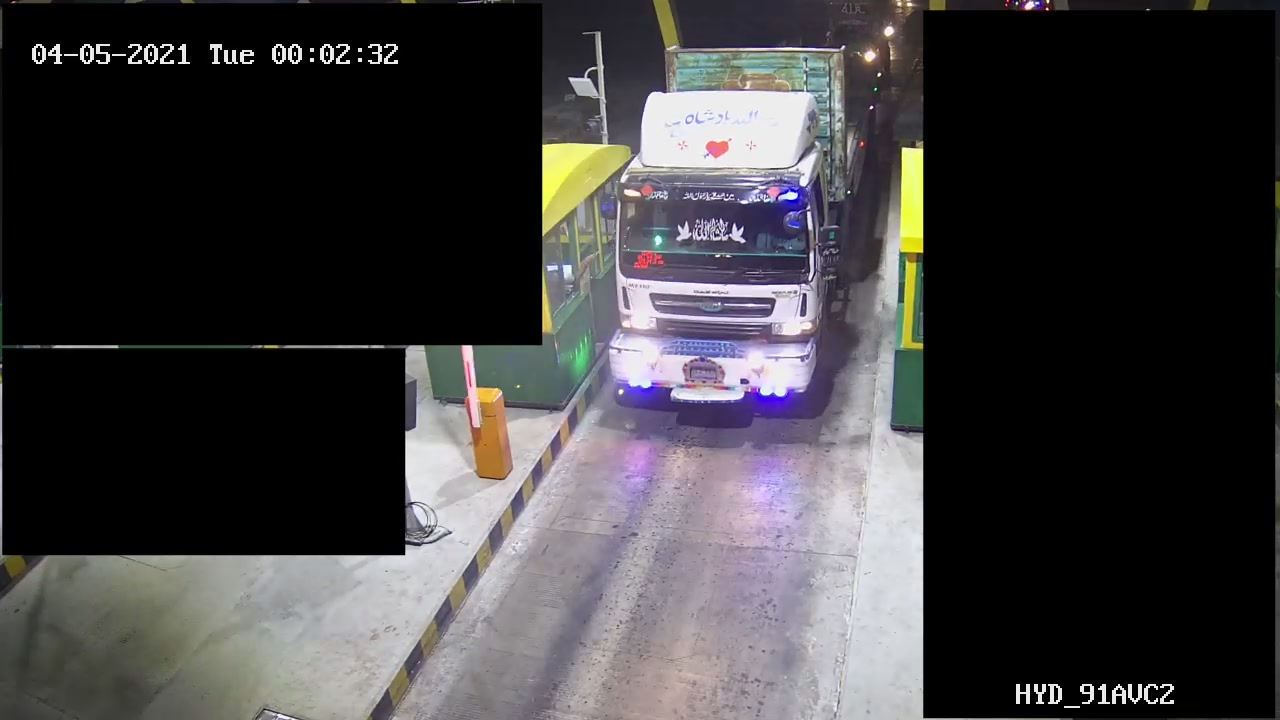F6: (608, 49, 888, 423)
